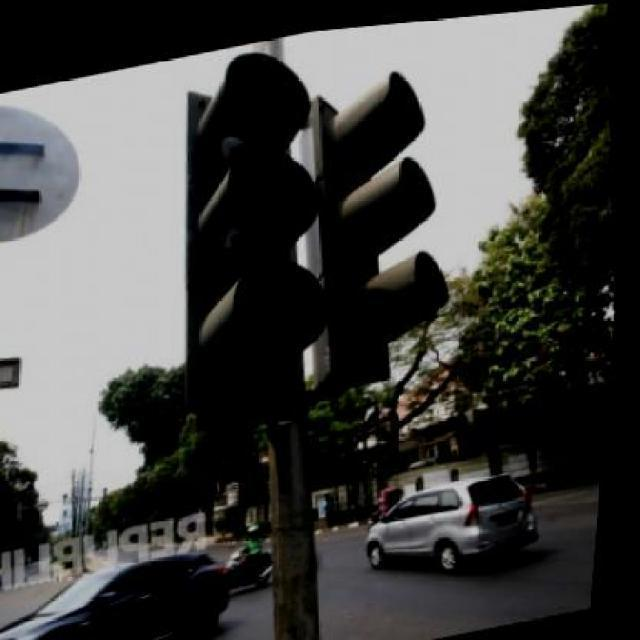green_light: (186, 52, 446, 406)
